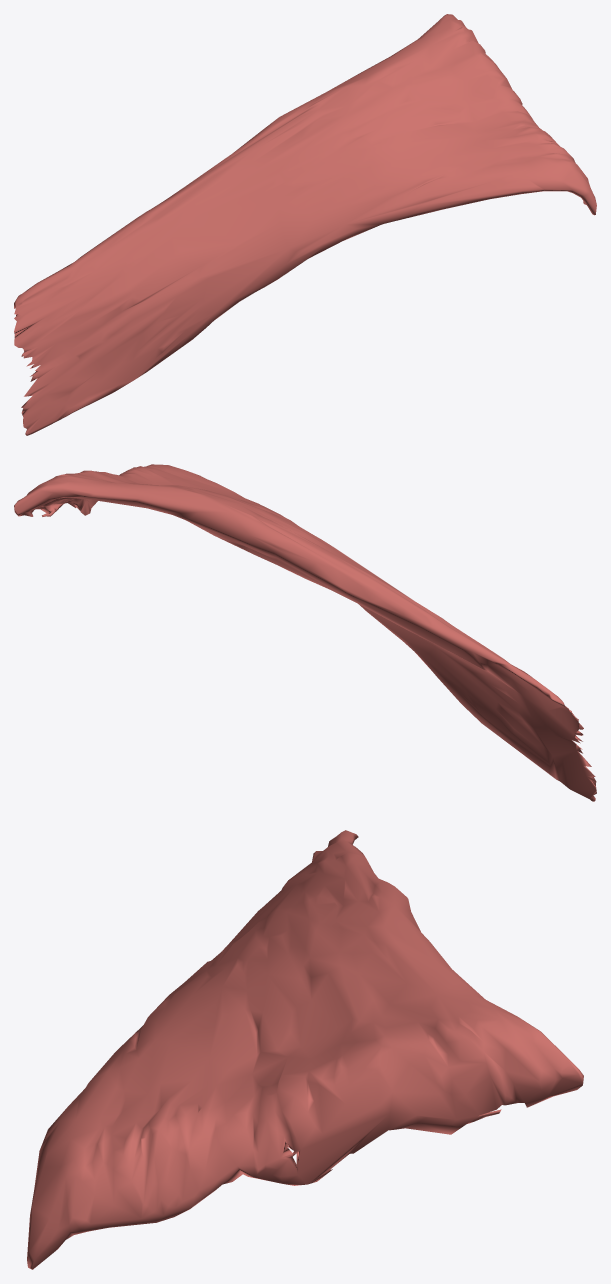
The picture shows the model from 3 angles, top to bottom: view 1: azimuth 30°, elevation 25°; view 2: azimuth 150°, elevation 25°; view 3: azimuth 270°, elevation 25°; orthographic projection. The views are drawn at different scales.
Visible parts, largest first — view 1: 右侧斜方肌横部; view 2: 右侧斜方肌横部; view 3: 右侧斜方肌横部.
Part boxes in pixels (x1=…): 右侧斜方肌横部: x1=14, y1=14, x2=596, y2=435; 右侧斜方肌横部: x1=14, y1=464, x2=596, y2=801; 右侧斜方肌横部: x1=27, y1=830, x2=583, y2=1269.
Bounding box in the file's own units: 0.2538 × 0.118 × 0.1196.
